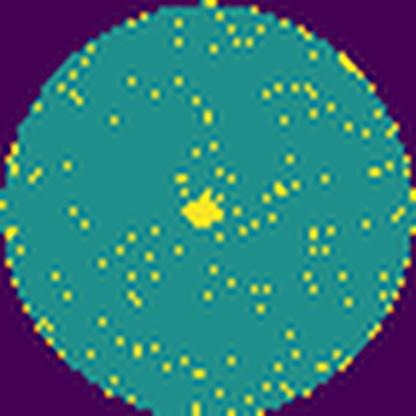Center: (181, 188, 226, 230)
